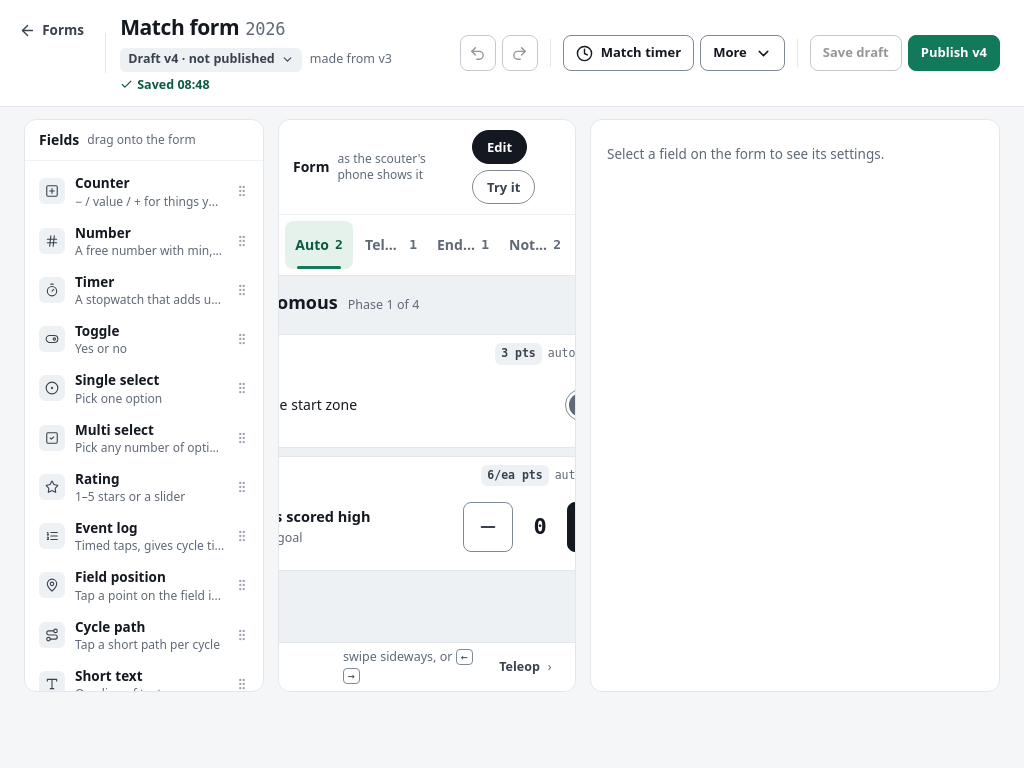
Scenario: Import (task 1.31) › into an existing form: the newest saved export of its kind, the diff counts and list, then the draft is replaced
Check: the element "Form" is shown, box [278,119,576,692]
Click the button "More" at (742, 53), box [700,35,785,71]
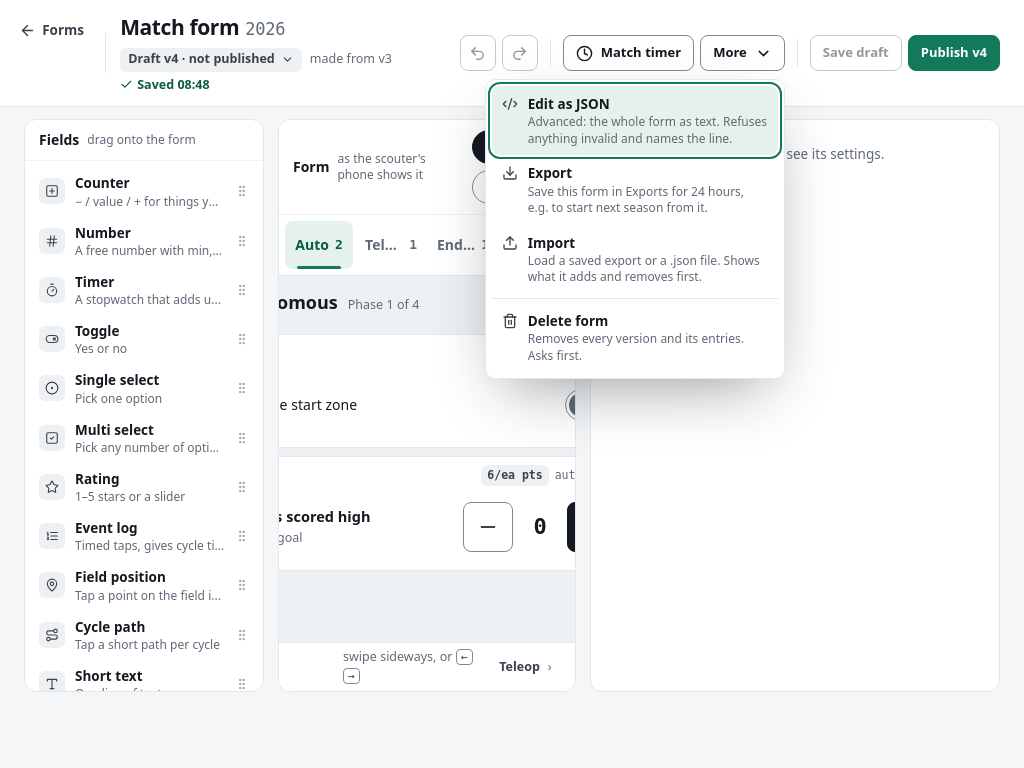
Click the menu item "Import" at (635, 259), box [492,225,778,294]
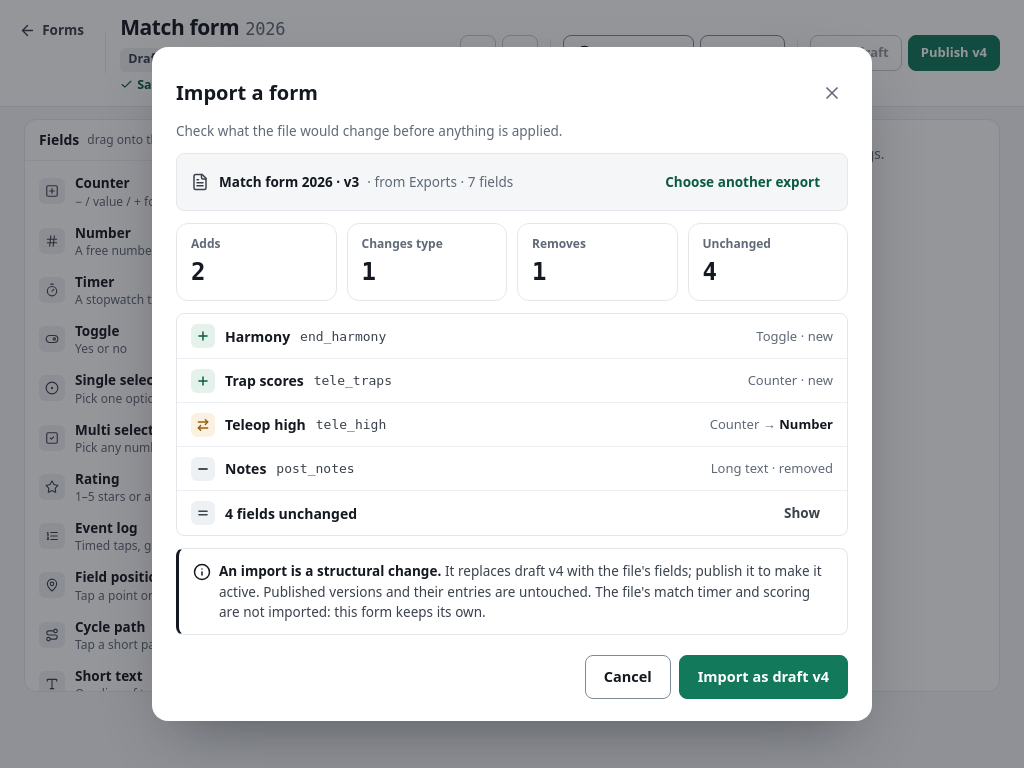
Check: the text "Match form 2026 · v3" is shown, box [219,172,359,192]
Check: the button "Choose another export" is shown, box [652,164,833,200]
Check: the text "2" is shown, box [191,258,205,286]
Click the button "Show" at (802, 513), box [771,495,833,531]
(page scrolled)
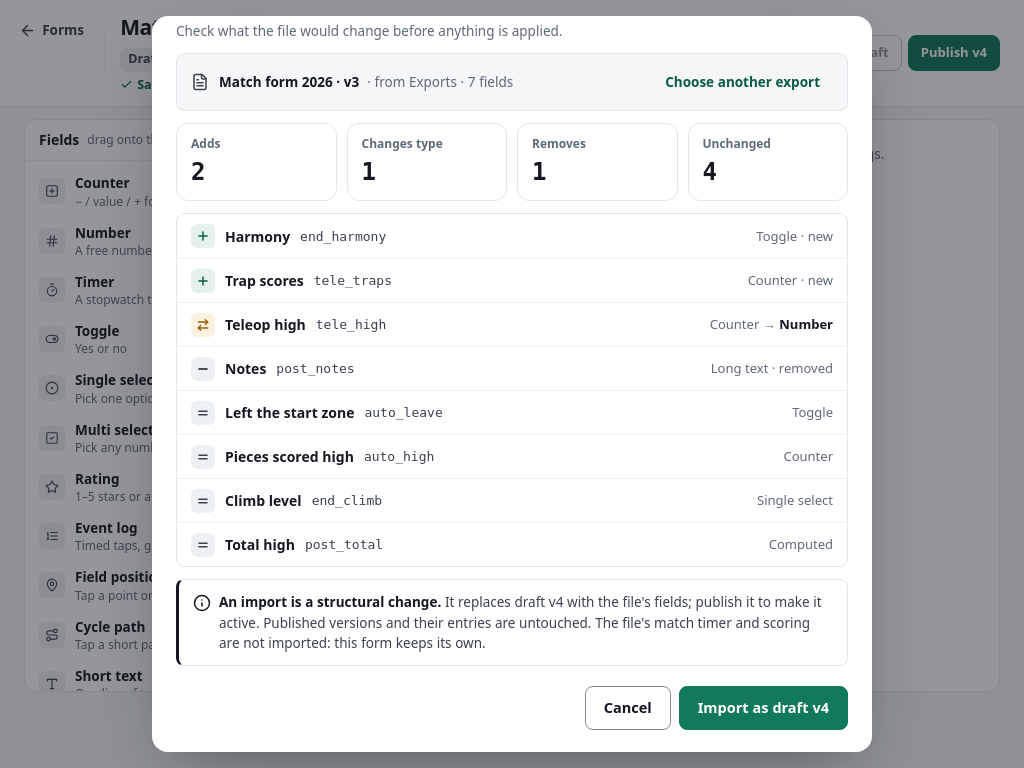
Check: the text "match timer and scoring are not imported" is shown, box [219,593,822,652]
Check: the text "auto_leave" is shown, box [364,403,443,422]
Click the button "Import as draft v4" at (763, 708), box [679,686,848,730]
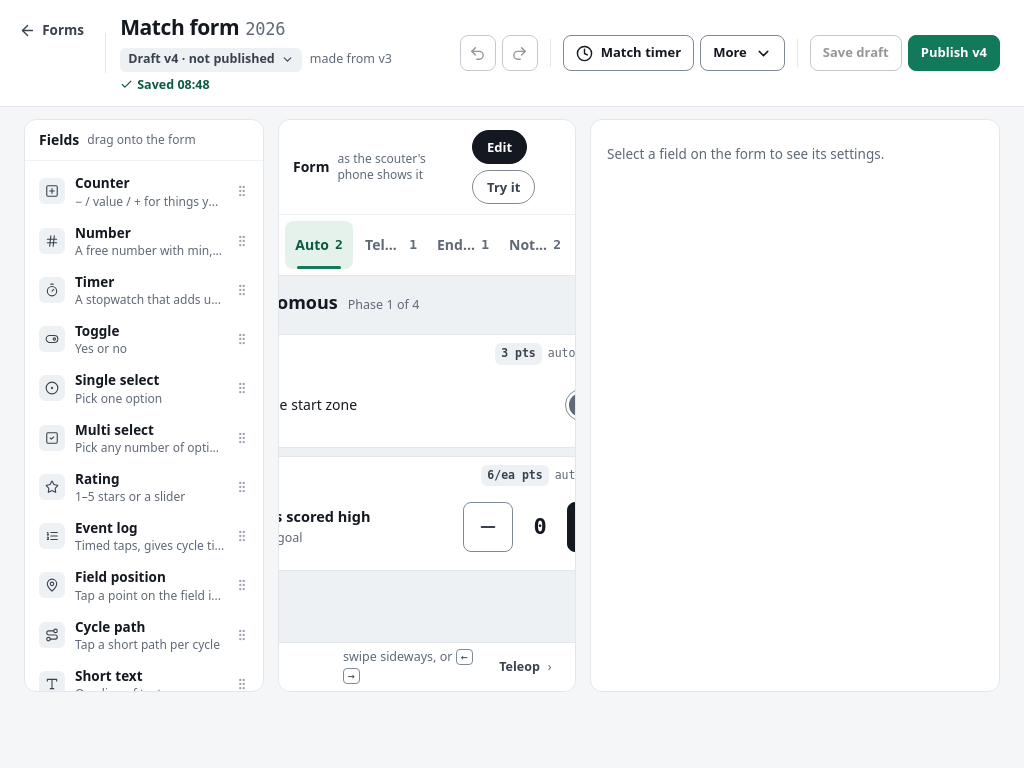
Check: the dialog is gone
